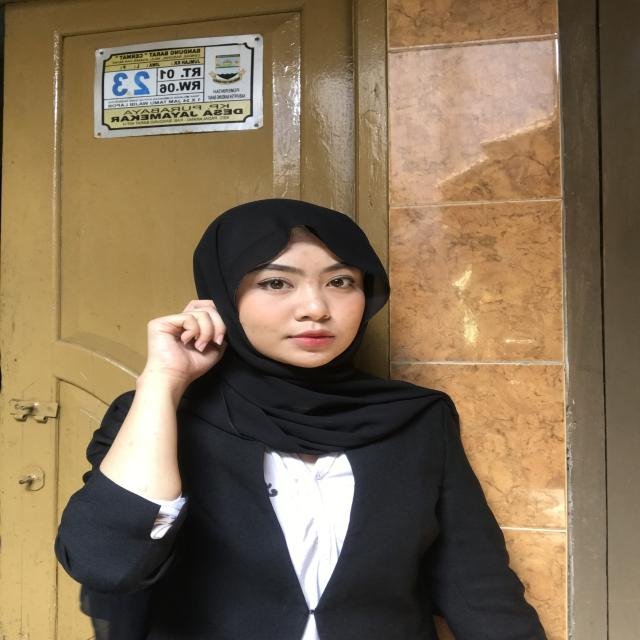ibu: (130, 296, 246, 446)
